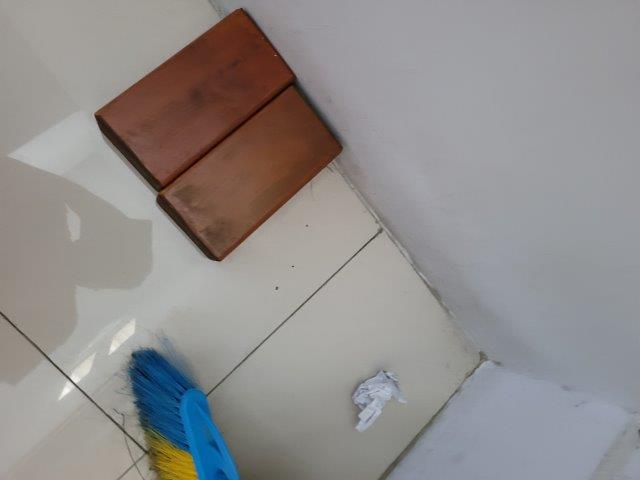kertas: (344, 370, 406, 432)
